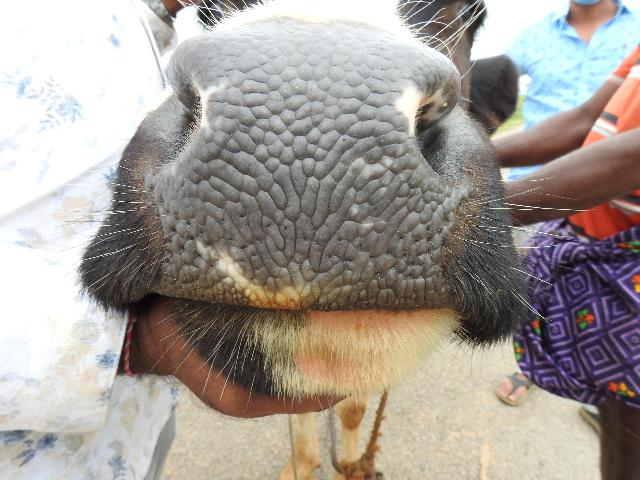Muzzle: (182, 43, 434, 309)
